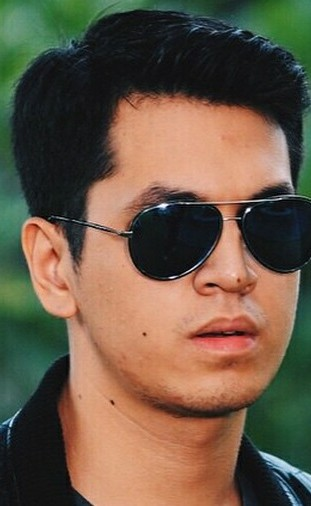tahilalat: (234, 276, 243, 283)
